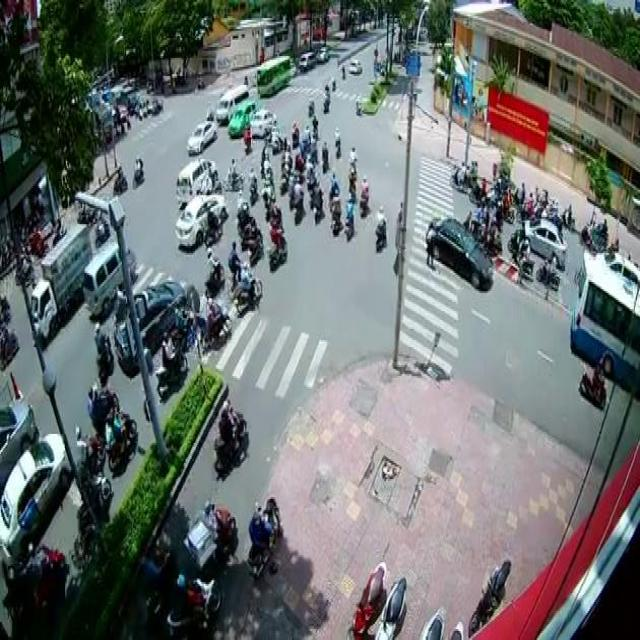bicycle: (226, 238, 249, 296)
bus: (571, 246, 640, 399), (256, 51, 291, 94)
car: (0, 430, 67, 566), (112, 276, 184, 378), (424, 212, 490, 289), (172, 192, 225, 251), (522, 215, 567, 268), (174, 152, 216, 204), (227, 96, 257, 137), (185, 119, 215, 154), (249, 106, 276, 136)
motorcycle: (182, 495, 237, 575), (168, 571, 218, 640), (244, 492, 283, 578), (212, 394, 250, 479), (105, 403, 137, 474), (154, 331, 186, 398), (73, 423, 105, 481), (84, 376, 118, 430), (199, 296, 232, 349), (236, 258, 262, 316), (91, 318, 114, 383), (577, 356, 605, 407), (204, 242, 226, 296), (265, 219, 287, 273), (510, 238, 534, 274), (534, 255, 559, 289), (221, 156, 241, 192), (448, 159, 467, 194), (235, 186, 248, 235), (342, 190, 354, 240), (111, 161, 128, 193), (374, 204, 385, 253), (312, 176, 323, 224), (292, 174, 302, 226), (357, 172, 368, 215), (131, 152, 144, 186), (246, 166, 256, 202)
truck: (28, 222, 90, 344), (81, 233, 136, 315), (214, 83, 248, 125)
